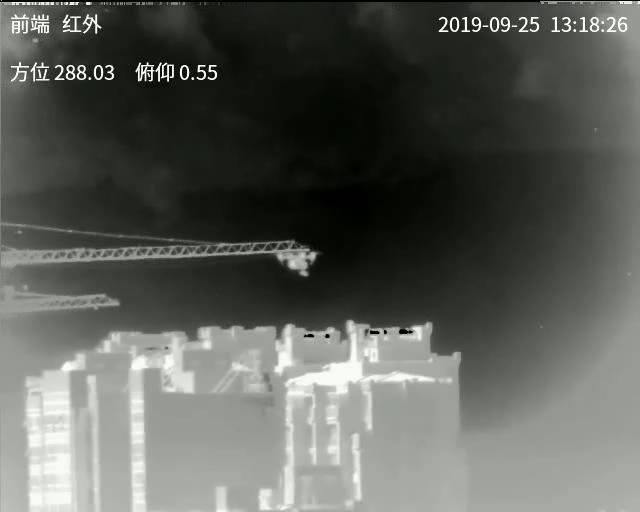uav: (272, 250, 315, 275)
